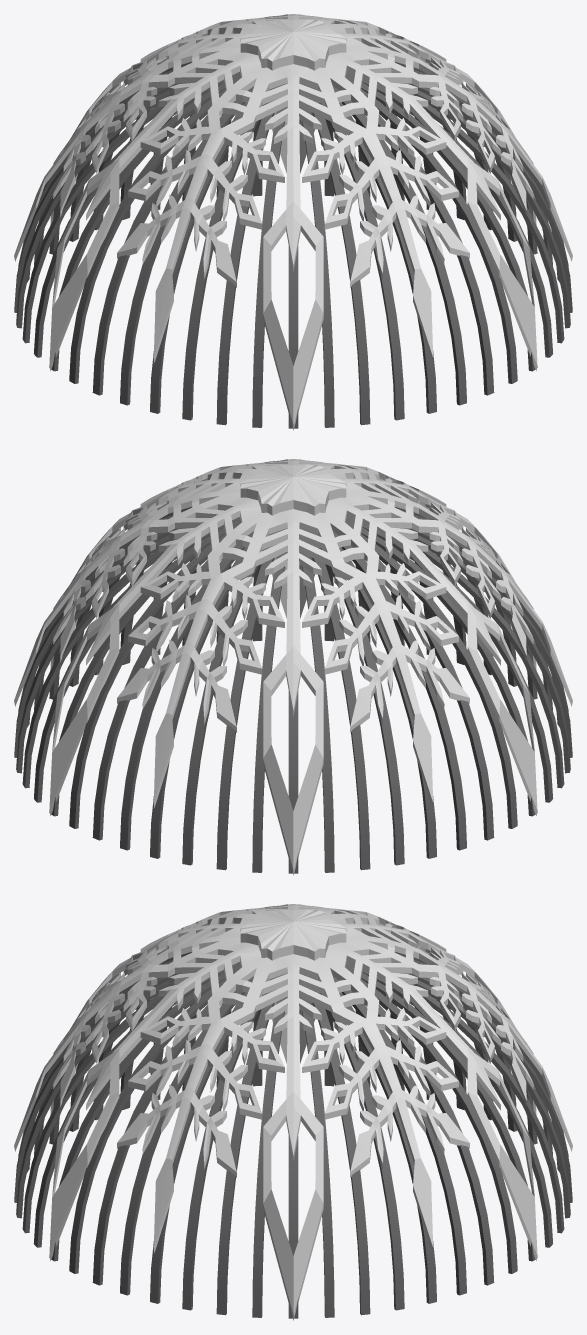
Rendered from field_winter_goal_dome.fbx.
The picture shows the model from 3 angles, top to bottom: view 1: azimuth 30°, elevation 25°; view 2: azimuth 150°, elevation 25°; view 3: azimuth 270°, elevation 25°; orthographic projection.
Parts seen in each view (by area): view 1: field_winter_goal_dome; view 2: field_winter_goal_dome; view 3: field_winter_goal_dome.
Part boxes in pixels (x1,y1,x2,y2): field_winter_goal_dome: [14, 14, 572, 430]; field_winter_goal_dome: [14, 459, 572, 875]; field_winter_goal_dome: [14, 904, 572, 1320].
Size of the model in its own units: 1308 by 718 by 1298.
Materials: 1 (1 with a texture image).
